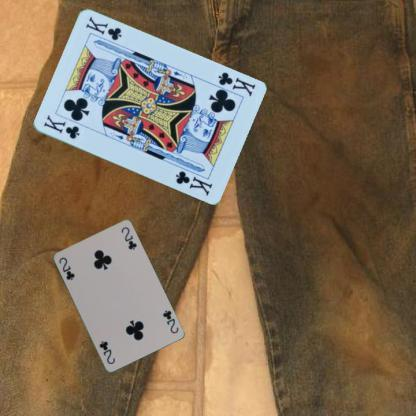2c: (56, 254, 76, 282), (160, 308, 180, 335)
Kc: (215, 70, 256, 98), (41, 112, 80, 140)
